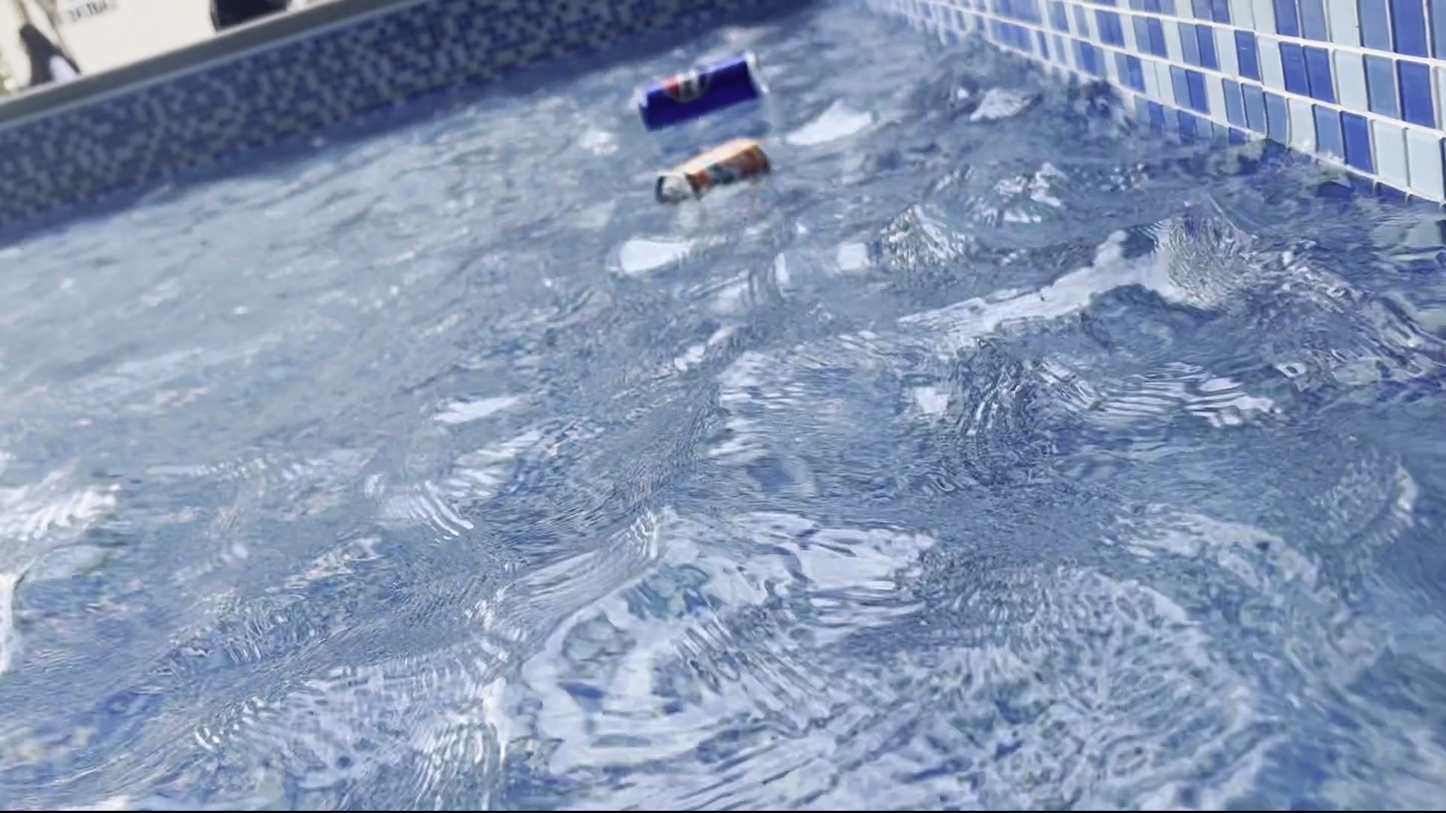debris: (635, 39, 769, 133), (651, 129, 774, 218)
